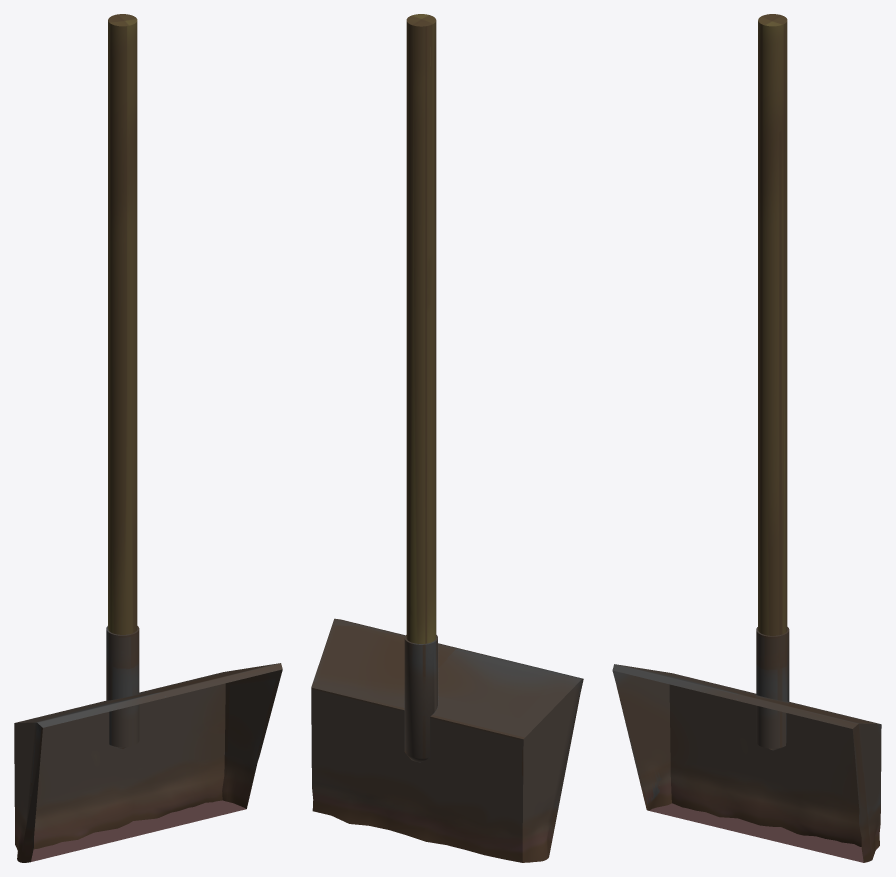
File: excavator2-2.fbx
3 views of the same model, side by side, from view 1: azimuth 30°, elevation 25°; view 2: azimuth 150°, elevation 25°; view 3: azimuth 330°, elevation 25° (orthographic).
Parts seen in each view (by area): view 1: Plane.001; view 2: Plane.001; view 3: Plane.001.
Boxes of the visible parts, x1,y1,x2,y2 form: Plane.001: [14, 14, 282, 862]; Plane.001: [311, 14, 583, 862]; Plane.001: [612, 14, 881, 862].
Size of the model in its own units: 89.2 by 282 by 30.64.
